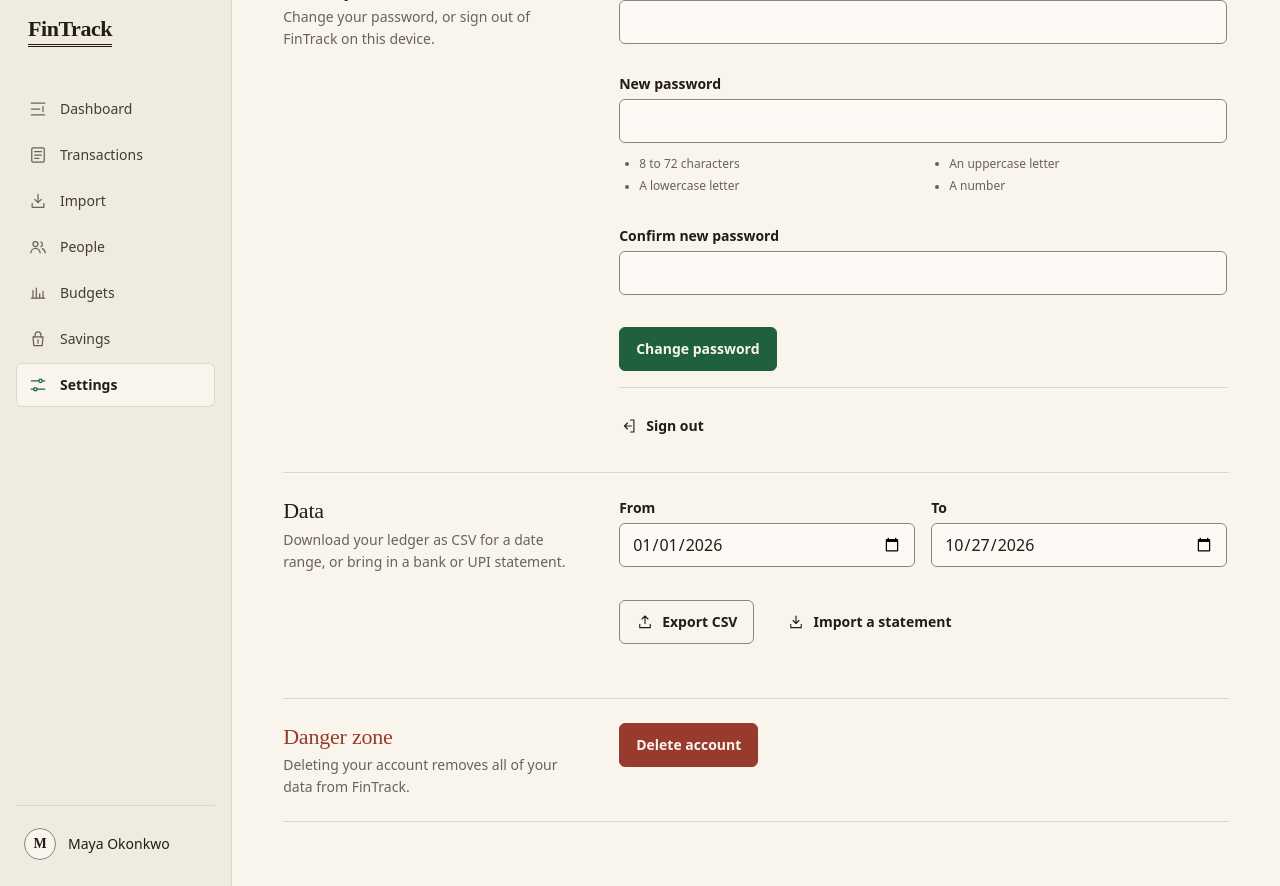
Test case: settings › deletes the account only after DELETE is typed, then signs out
(page scrolled)
Click the button "Delete account". click: [689, 744]
box: 619,722 -> 758,766
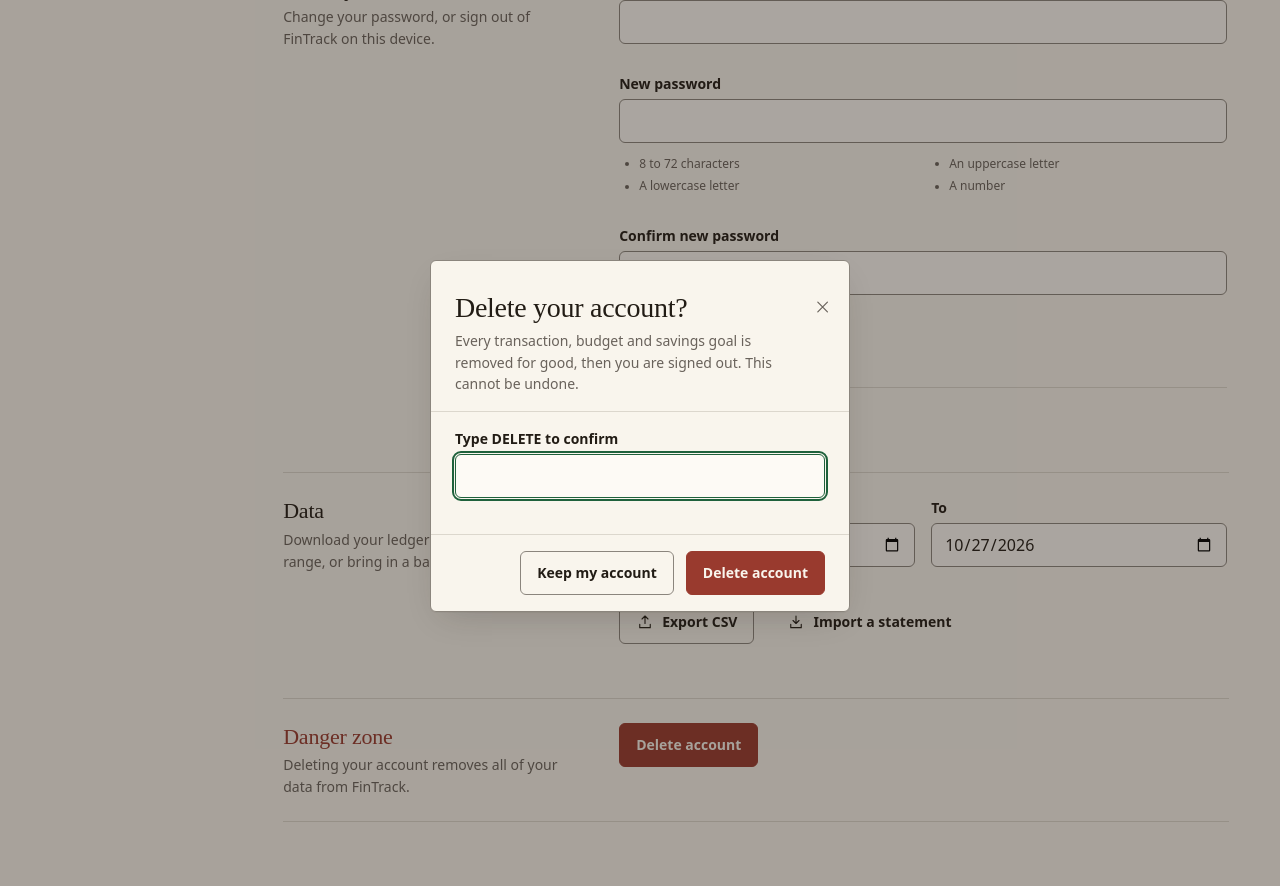
Click the button "Delete account". click: [755, 574]
box: 686,552 -> 825,596
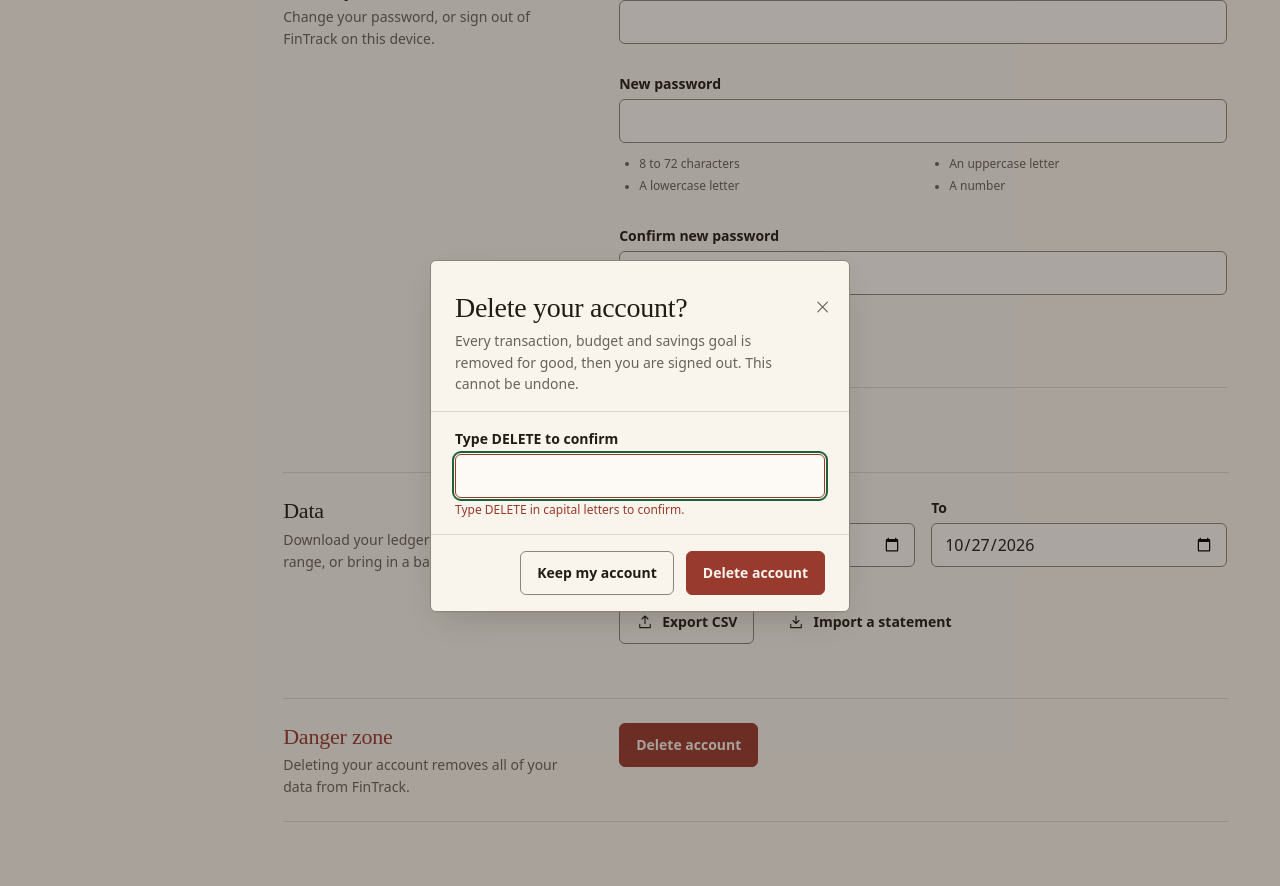
Check: the text "Type DELETE in capital letters to confirm." is shown, box 455,501 -> 684,518
Type "DELETE" into the field labelled "Type DELETE to confirm". click: [640, 476]
box: 455,454 -> 825,498
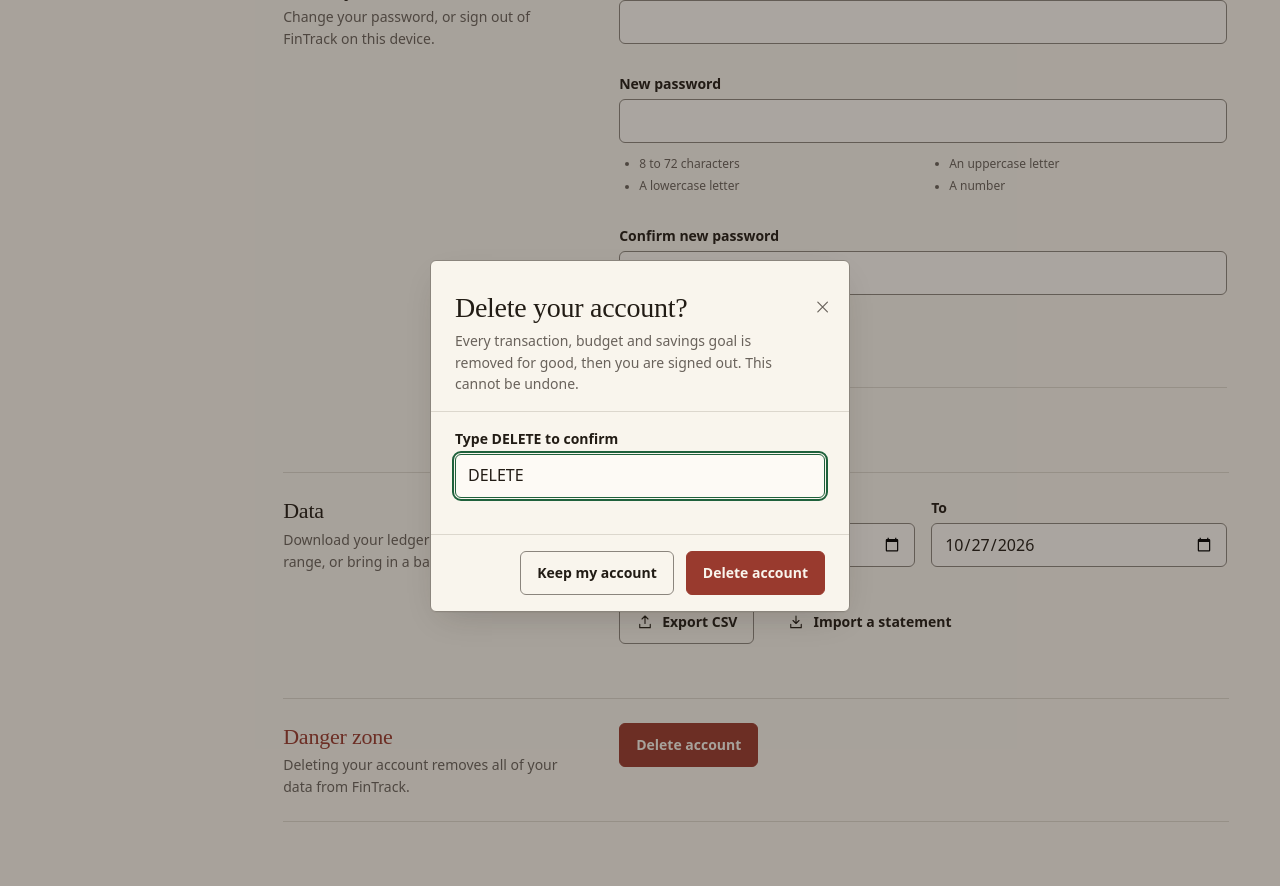
Click the button "Delete account". click: [755, 574]
box: 686,552 -> 825,596
(page scrolled)
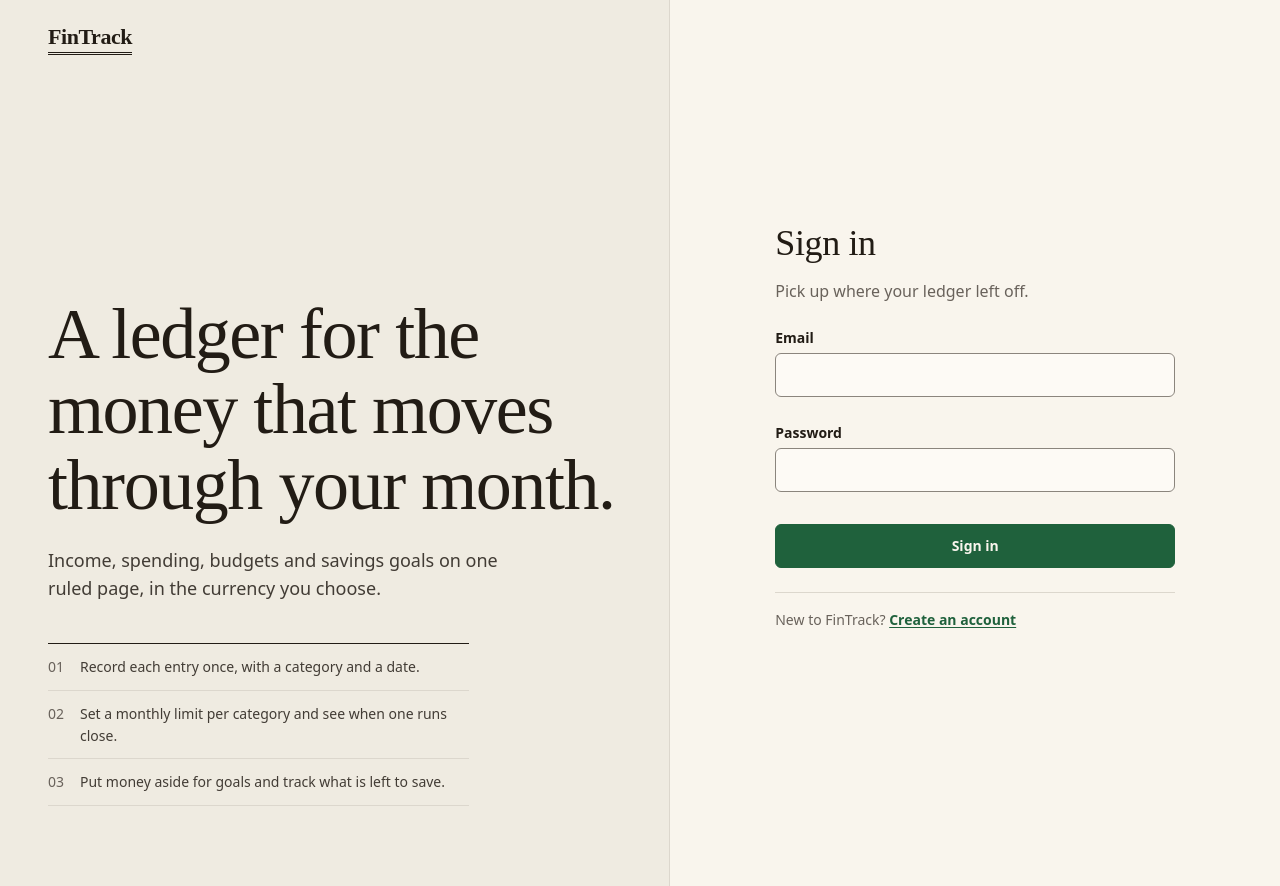
Check: the heading "Sign in" is shown, box 775,223 -> 876,263
